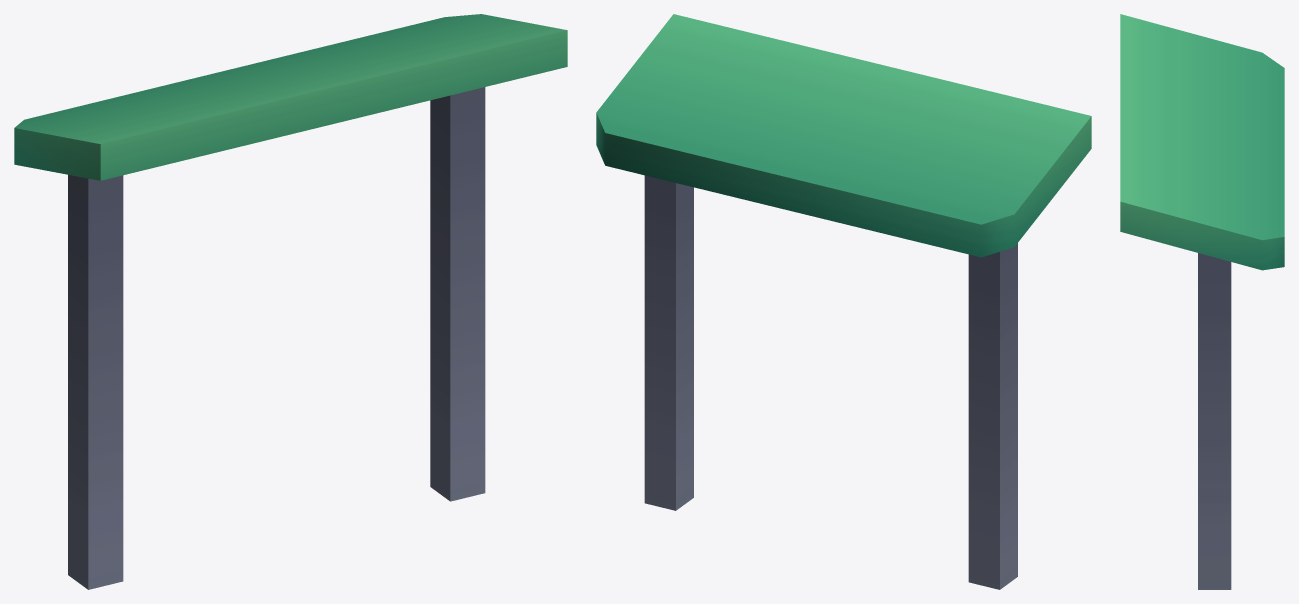
Rendered from detail-awning.glb.
3 views of the same model, side by side, from view 1: azimuth 30°, elevation 25°; view 2: azimuth 150°, elevation 25°; view 3: azimuth 270°, elevation 25° (orthographic). The views are drawn at different scales.
Visible parts, largest first — view 1: detail-awning; view 2: detail-awning; view 3: detail-awning.
Part boxes in pixels (x1,y1,x2,y2): detail-awning: [14, 14, 567, 589]; detail-awning: [596, 14, 1091, 589]; detail-awning: [1120, 14, 1284, 589].
Size of the model in its own units: 0.4 by 0.4 by 0.1479.
Materials: 1 (1 with a texture image).
